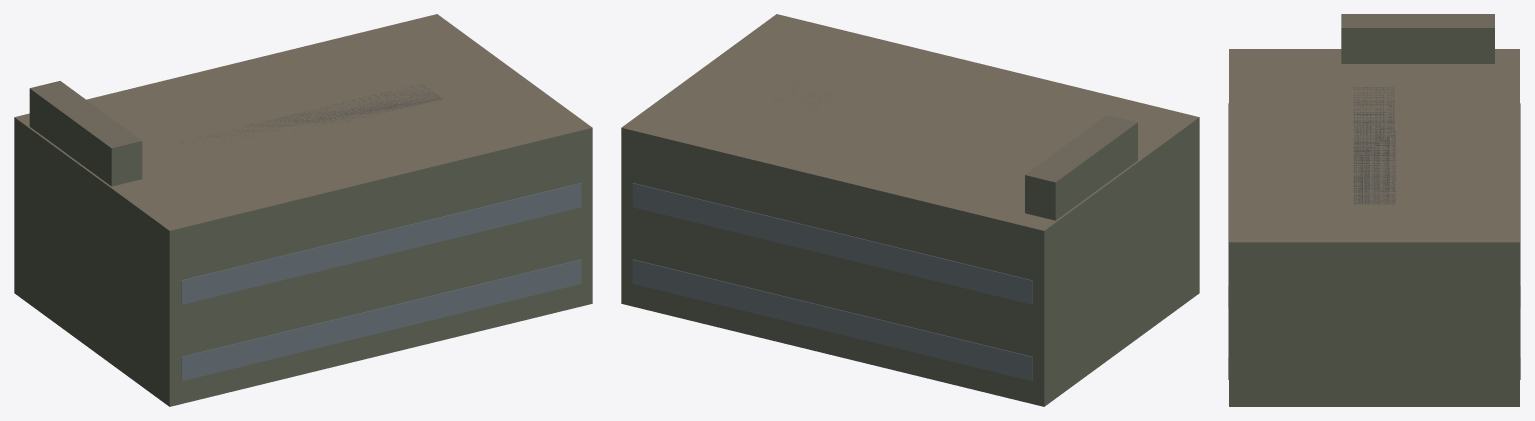
The model's file is mb-armory.garrison-v1.lod2.glb.
3 renders of one model, left to right at view 1: azimuth 30°, elevation 25°; view 2: azimuth 150°, elevation 25°; view 3: azimuth 270°, elevation 25°, orthographic. The views are drawn at different scales.
Parts seen in each view (by area): view 1: mb-armory; view 2: mb-armory; view 3: mb-armory.
Part boxes in pixels (x1,y1,x2,y2): mb-armory: (14, 14, 592, 406); mb-armory: (621, 14, 1199, 406); mb-armory: (1228, 14, 1520, 406).
Size of the model in its own units: 22 by 10.65 by 14.06.
